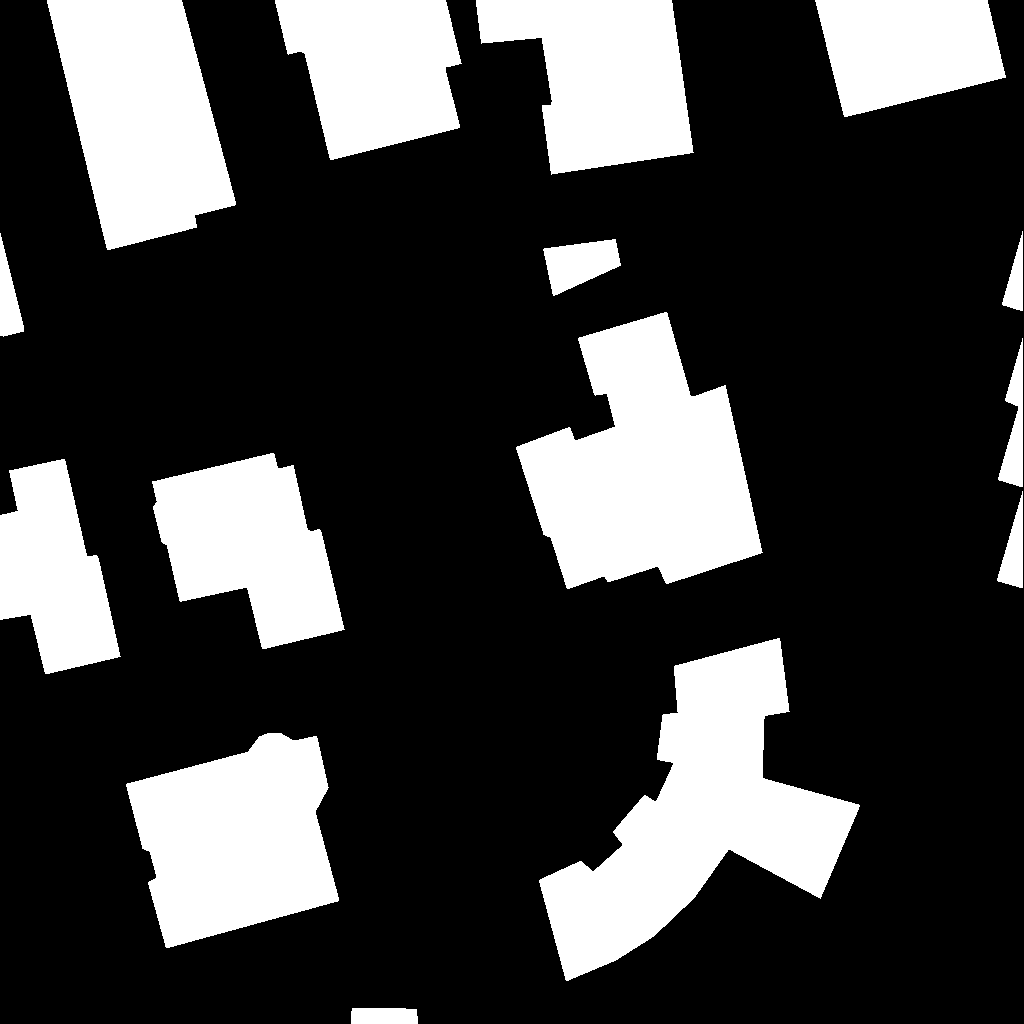building: (539, 638, 861, 982), (516, 312, 763, 590), (47, 0, 237, 251), (126, 733, 340, 949), (476, 0, 694, 175), (152, 453, 345, 650), (275, 0, 462, 161), (0, 459, 121, 675), (815, 0, 1007, 118), (997, 230, 1024, 589), (543, 239, 622, 297), (0, 232, 25, 337), (351, 1008, 419, 1024)
